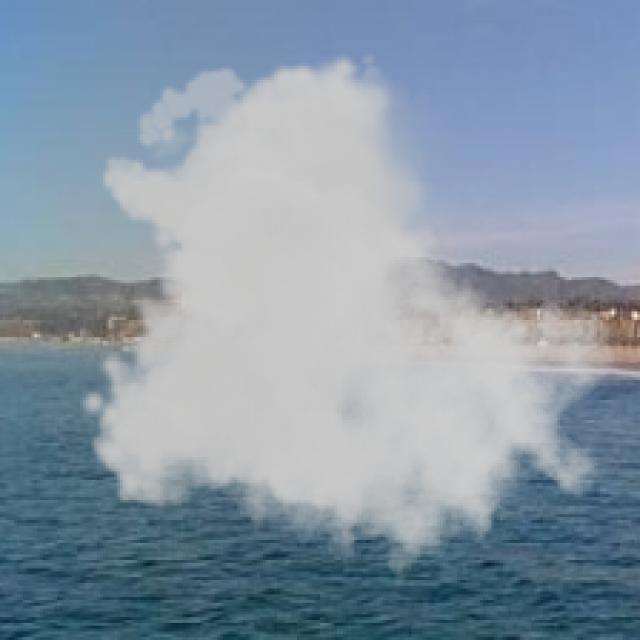smoke: (77, 51, 617, 603)
